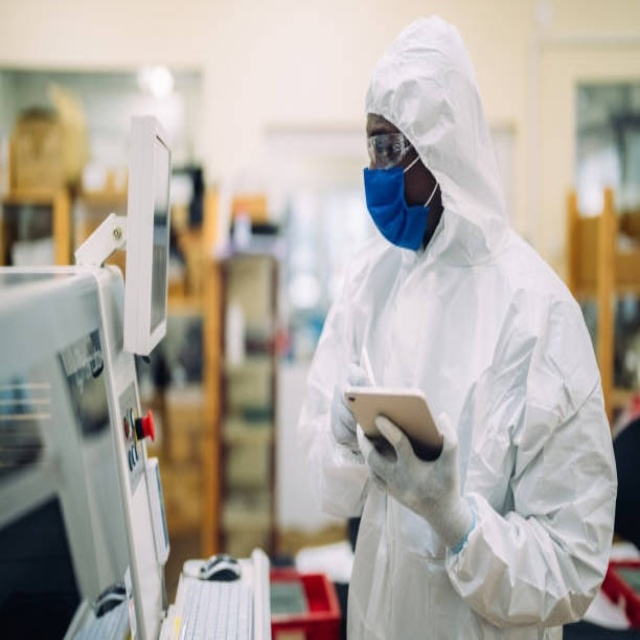Gafas: (366, 132, 420, 171)
Guantes: (361, 410, 470, 548), (331, 379, 366, 458)
Mascara: (362, 161, 438, 253)
